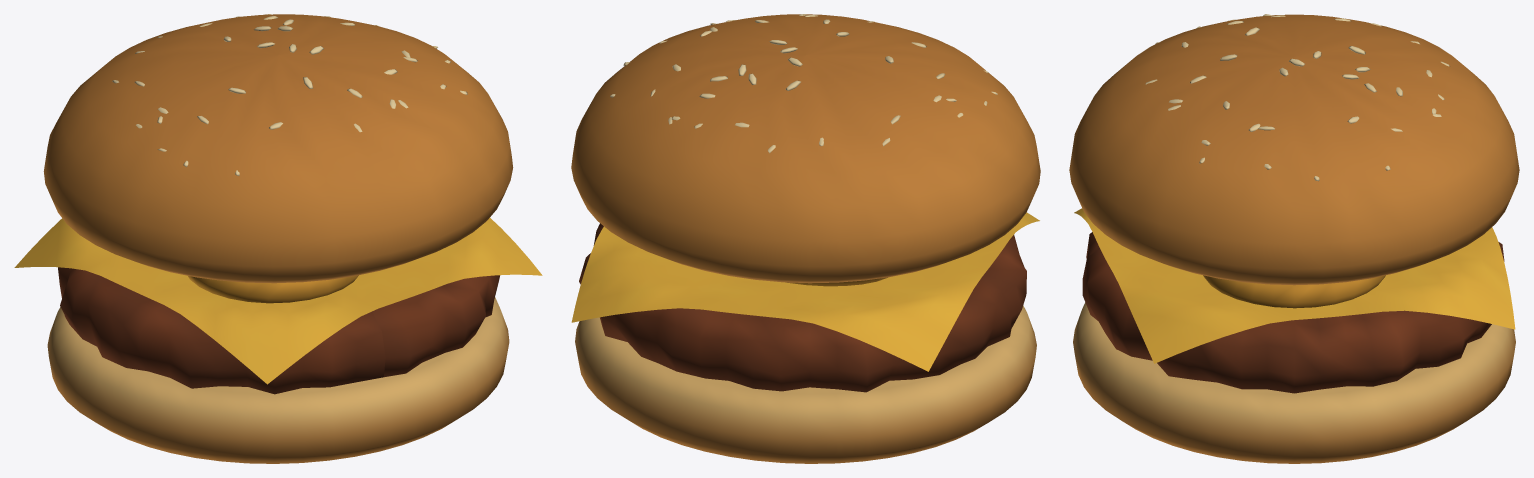
Rendered from xonion.glb.
The picture shows the model from 3 angles, left to right: view 1: azimuth 30°, elevation 25°; view 2: azimuth 150°, elevation 25°; view 3: azimuth 270°, elevation 25°; orthographic projection.
Visible parts, largest first — view 1: xonion; view 2: xonion; view 3: xonion.
Part boxes in pixels (bbox=[...]): xonion: bbox=[14, 14, 542, 463]; xonion: bbox=[571, 14, 1040, 463]; xonion: bbox=[1069, 14, 1519, 463].
Size of the model in its own units: 0.126 by 0.0978 by 0.121.
